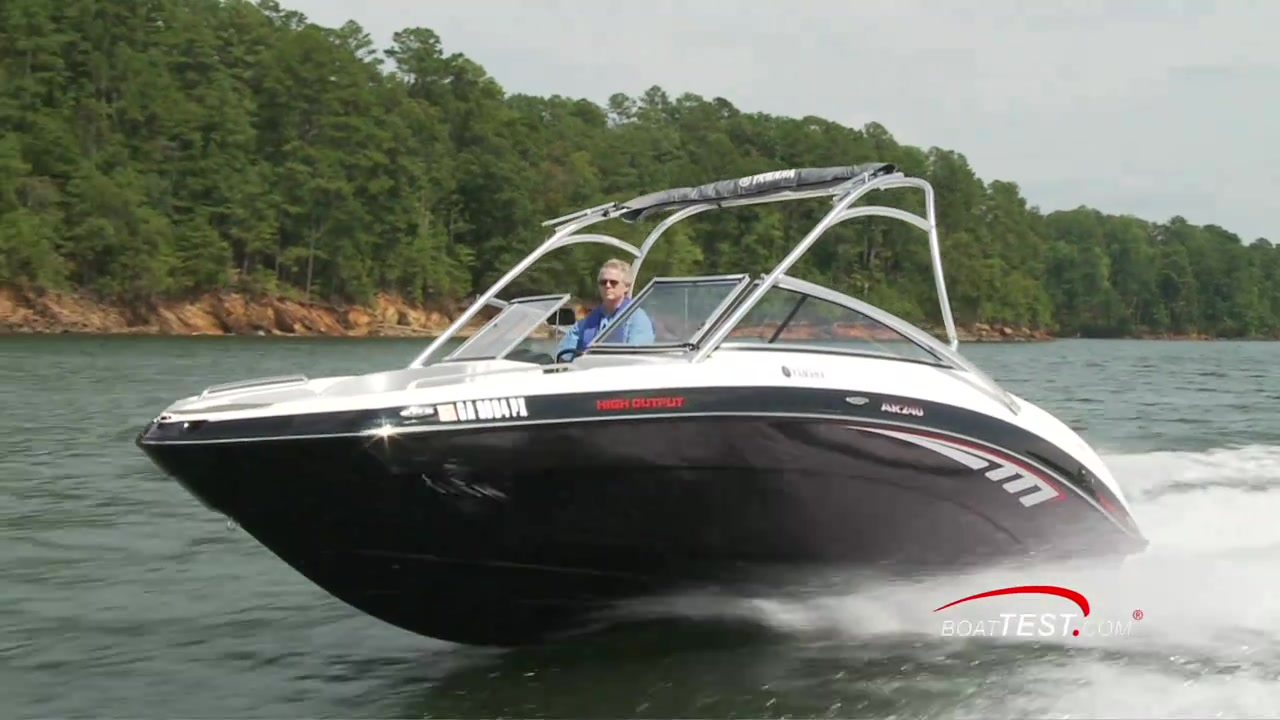boat: (138, 160, 1143, 649)
